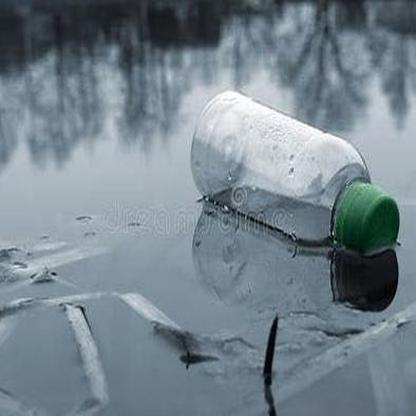plastic bottle: (190, 91, 400, 254)
